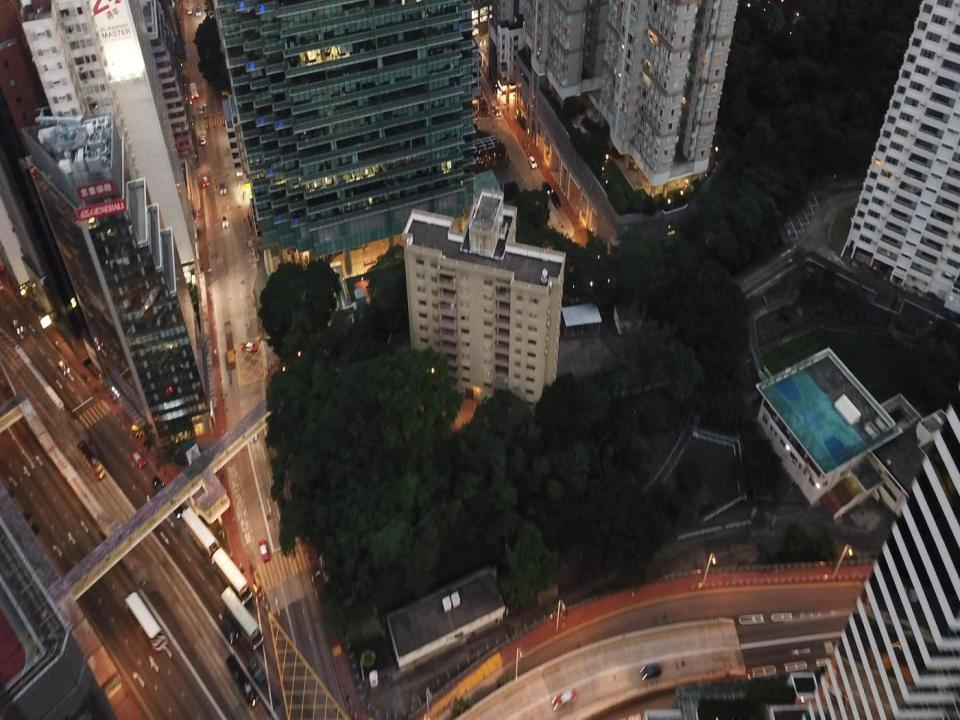bus: (221, 586, 263, 648), (211, 547, 252, 605), (181, 507, 219, 558), (77, 440, 105, 481)
car: (125, 591, 168, 652), (227, 654, 258, 708), (220, 613, 239, 644), (552, 689, 577, 710), (248, 660, 267, 684), (151, 475, 169, 497), (640, 663, 662, 680), (130, 450, 146, 468), (258, 540, 270, 562), (249, 420, 258, 442), (57, 361, 70, 375), (12, 319, 23, 334), (241, 342, 258, 351), (218, 182, 226, 195), (493, 105, 501, 116), (222, 216, 228, 228), (203, 176, 209, 186), (200, 136, 206, 145)
truck: (189, 81, 199, 99)
van: (551, 191, 562, 207), (542, 182, 552, 194), (529, 155, 537, 169), (199, 105, 204, 115)
